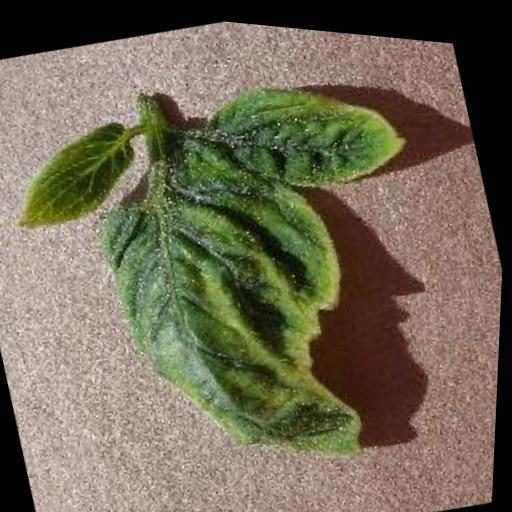Yellow Leaf Curl Virus: (71, 101, 393, 504), (205, 50, 410, 210), (0, 107, 151, 247)
